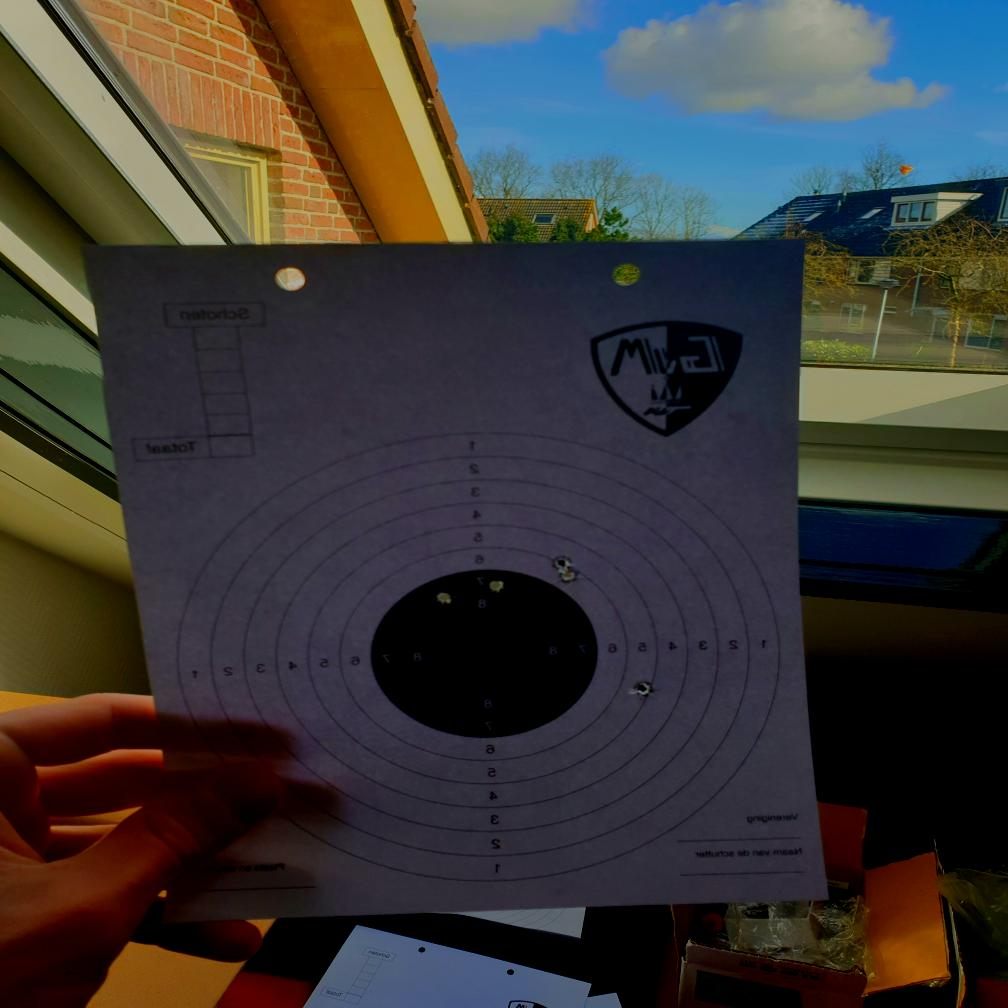5: (629, 680, 658, 700)
6: (553, 554, 572, 570), (560, 570, 576, 583)
8: (428, 590, 455, 608), (487, 577, 507, 595)
Target: (174, 427, 784, 886)
black_contour: (370, 569, 598, 738)
